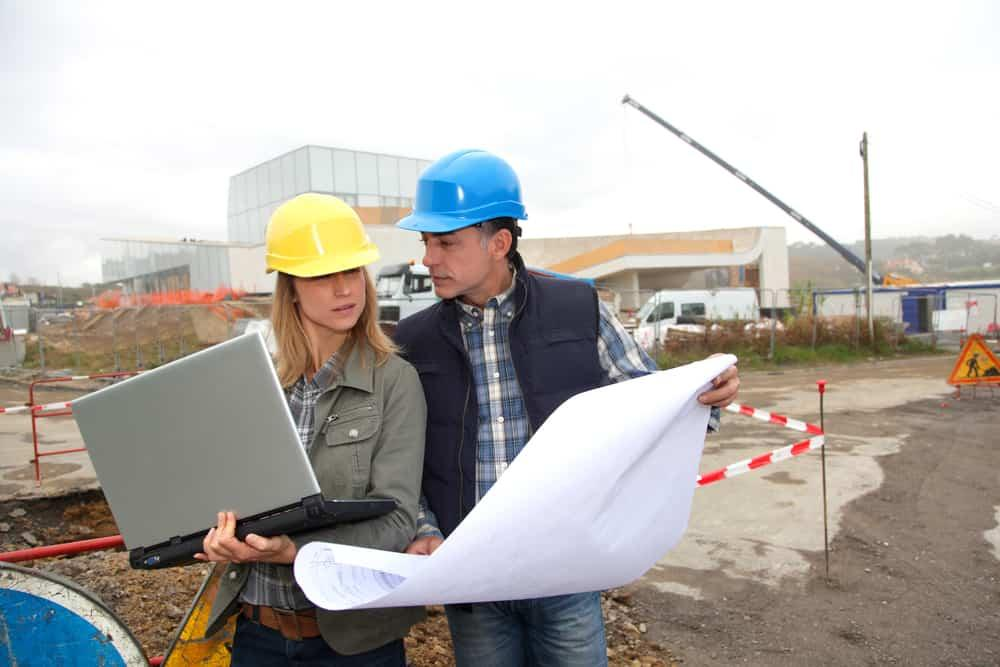helmet: (398, 149, 525, 234), (267, 192, 377, 278)
